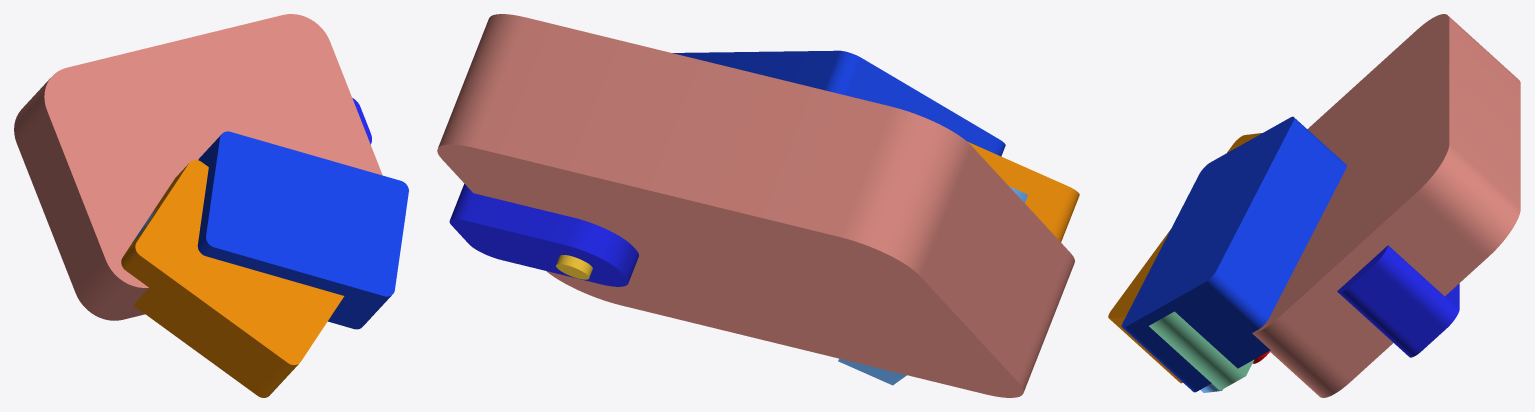
The model's file is wallet2.glb.
3 views of the same model, side by side, from view 1: azimuth 30°, elevation 25°; view 2: azimuth 150°, elevation 25°; view 3: azimuth 270°, elevation 25° (orthographic). The views are drawn at different scales.
Parts seen in each view (by area): view 1: Shape_93_, Shape_95_, Shape_94_; view 2: Shape_93_, Shape_92_, Shape_95_, Shape_94_, Stripe_1_, Button_2_; view 3: Shape_93_, Shape_95_, Shape_92_, Stripe_2_, Shape_94_.
Part boxes in pixels (x1,y1,x2,y2): Shape_93_: (14,14,382,320); Shape_95_: (197,131,408,329); Shape_94_: (121,160,344,397); Shape_93_: (437,14,1074,397); Shape_92_: (449,184,638,286); Shape_95_: (672,50,1005,156); Shape_94_: (967,141,1079,241); Stripe_1_: (838,186,1027,385); Button_2_: (556,255,592,279); Shape_93_: (1252,14,1520,397); Shape_95_: (1121,116,1346,392); Shape_92_: (1337,245,1459,357); Stripe_2_: (1149,311,1254,390); Shape_94_: (1108,133,1261,383).
Size of the model in its own units: 2.43 by 2.1 by 2.5.
